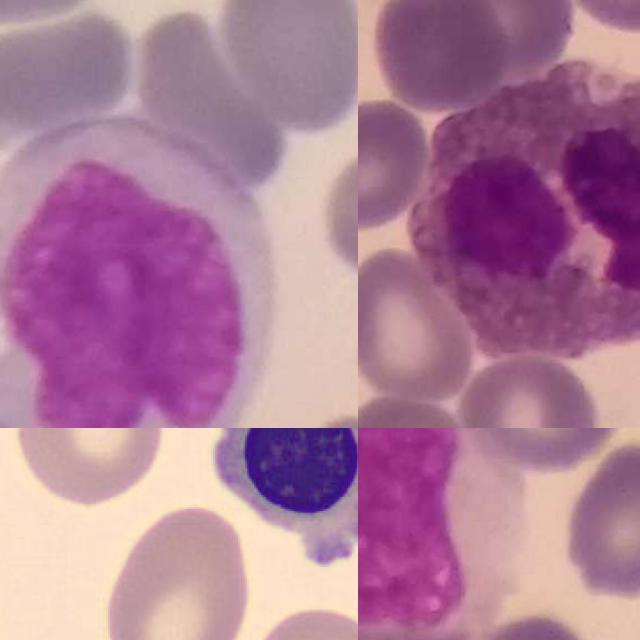Eosinophil: (405, 61, 640, 358)
Lymphocyte: (190, 428, 358, 599)
Monocyte: (0, 116, 281, 428), (358, 428, 527, 640)
RBC: (97, 498, 255, 640), (6, 428, 170, 509)
